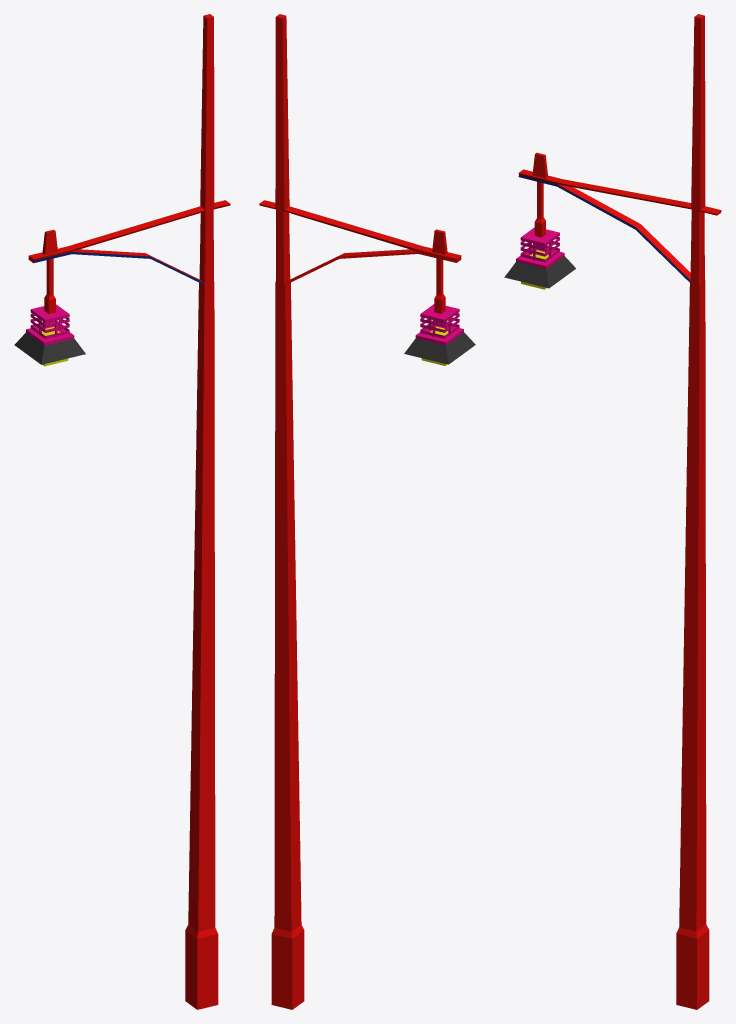
File: modernLamp.fbx
3 views of the same model, side by side, from view 1: azimuth 30°, elevation 25°; view 2: azimuth 150°, elevation 25°; view 3: azimuth 330°, elevation 25° (orthographic).
Visible parts, largest first — view 1: Cube.003, Cube, Cube.004, Cube.002, Cube.005; view 2: Cube.003, Cube, Cube.004, Cube.002; view 3: Cube.003, Cube, Cube.004, Cube.002, Cube.005.
Boxes of the visible parts, x1,y1,x2,y2 form: Cube.003: (185,14,218,1009); Cube: (28,200,230,313); Cube.004: (26,304,74,345); Cube.002: (14,332,85,364); Cube.005: (33,252,204,284); Cube.003: (271,14,304,1009); Cube: (259,200,461,313); Cube.004: (415,304,463,345); Cube.002: (404,332,475,364); Cube.003: (676,14,709,1009); Cube: (518,152,721,279); Cube.004: (516,227,564,268); Cube.002: (504,256,575,288); Cube.005: (518,175,690,282).
Size of the model in its own units: 132 by 619 by 30.96.
